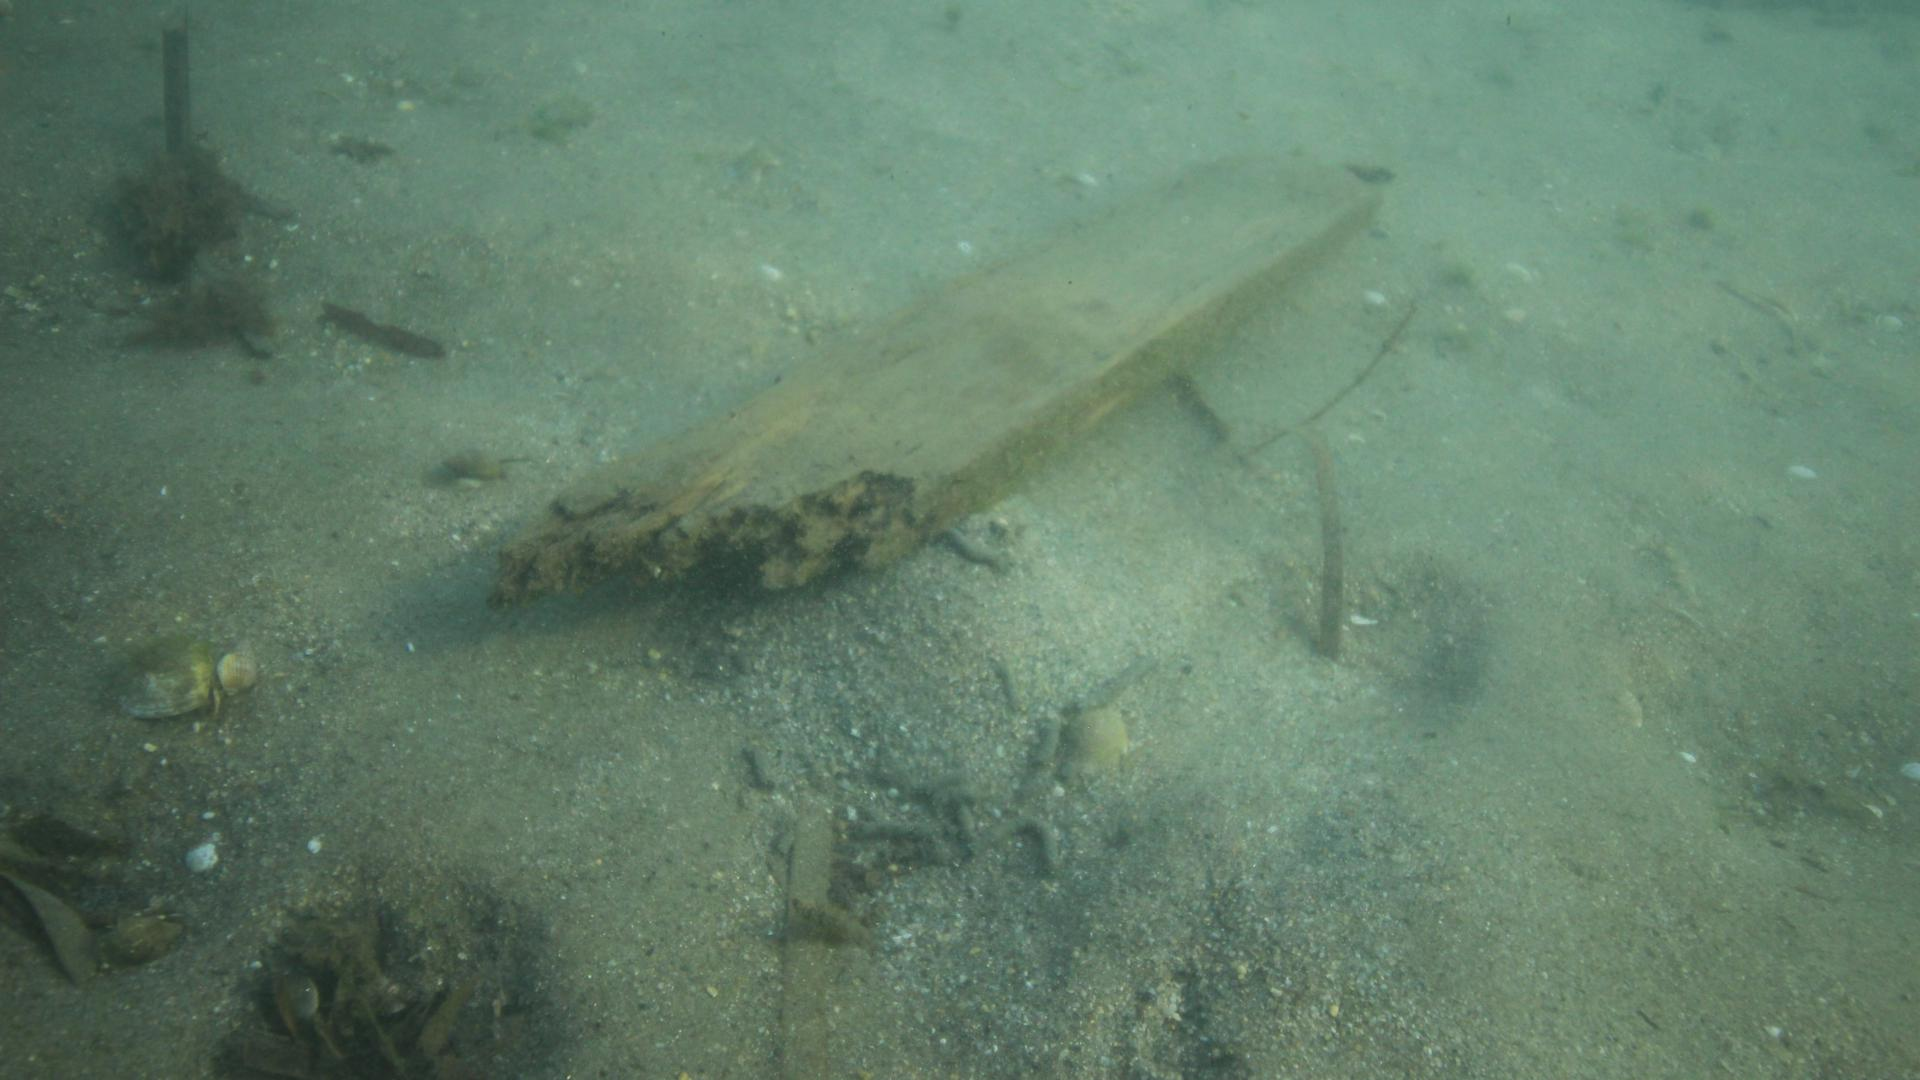wood: (487, 150, 1386, 608)
